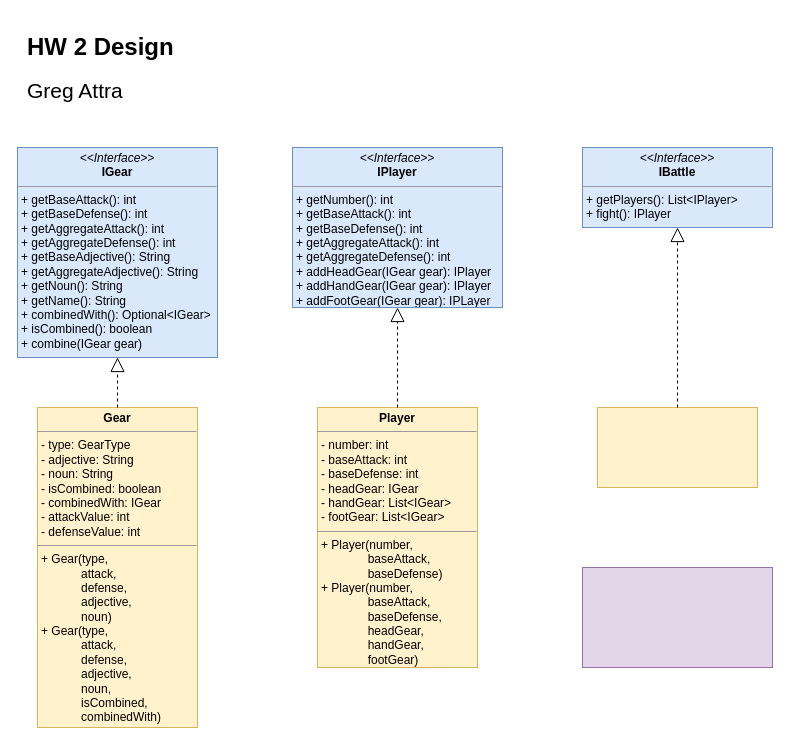
Some shapes in this 790 by 745 pixel diagram are drawn without their labels. The shapes that lost their labels are listed below. From the top down, each one's centre as x and y in pixels, then its label:
At (x=677, y=447): "Battle - players: List<IPlayer> + Battle(players)".
At (x=677, y=617): "<<enum>> GearType HEADGEAR HANDGEAR FOOTGEAR".
